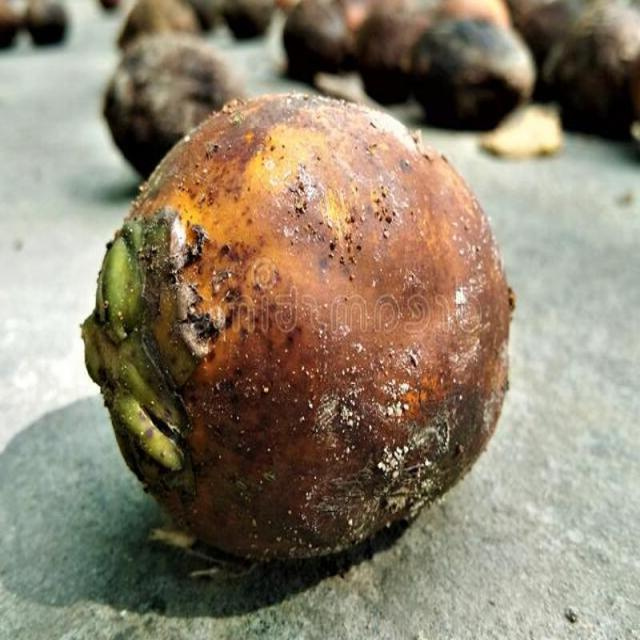damaged: (79, 92, 516, 569)
